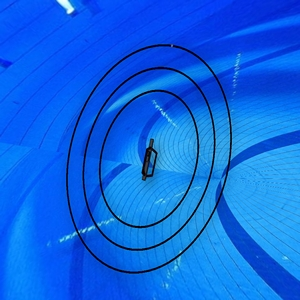circle: (64, 40, 237, 278)
submarine: (136, 135, 162, 186)
